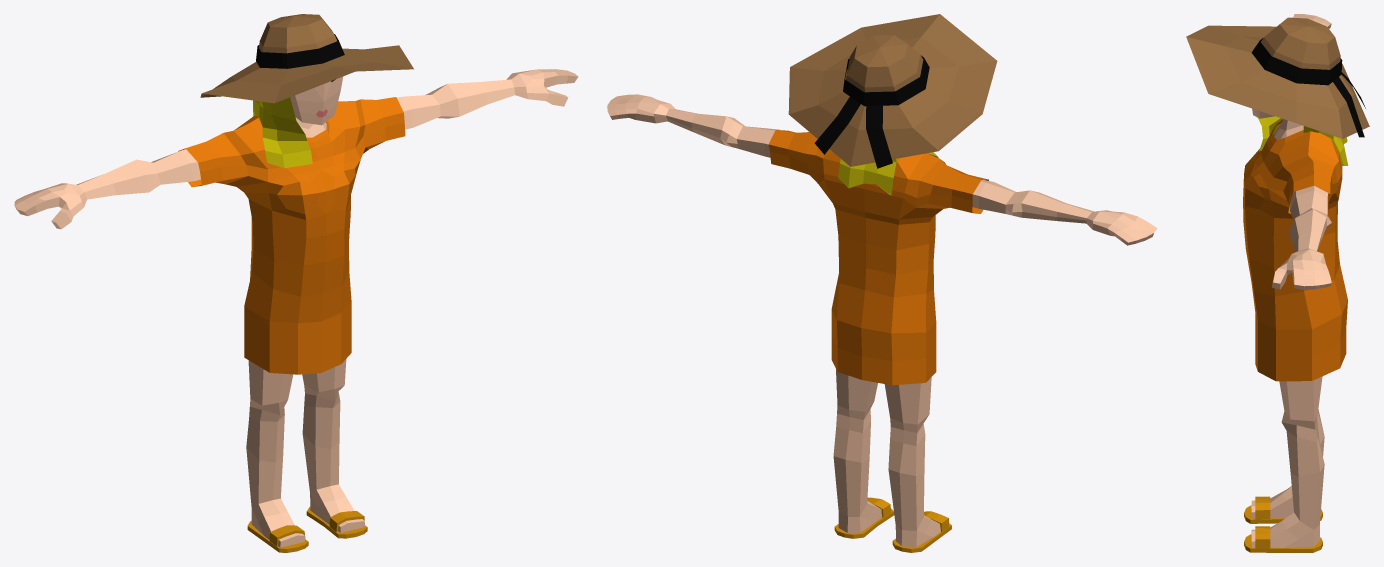
The model's file is NPC_1_W_Escenario1.fbx.
3 views of the same model, side by side, from view 1: azimuth 30°, elevation 25°; view 2: azimuth 150°, elevation 25°; view 3: azimuth 270°, elevation 25° (orthographic). The views are drawn at different scales.
Visible parts, largest first — view 1: Cabeza_003; view 2: Cabeza_003; view 3: Cabeza_003.
Boxes of the visible parts, x1=… form: Cabeza_003: x1=14, y1=14, x2=578, y2=552; Cabeza_003: x1=607, y1=14, x2=1157, y2=552; Cabeza_003: x1=1186, y1=14, x2=1369, y2=552.
Bounding box in the file's own units: 215 × 187 × 61.32.
